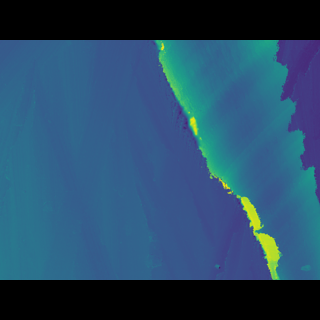Loch: (143, 72, 319, 249)
